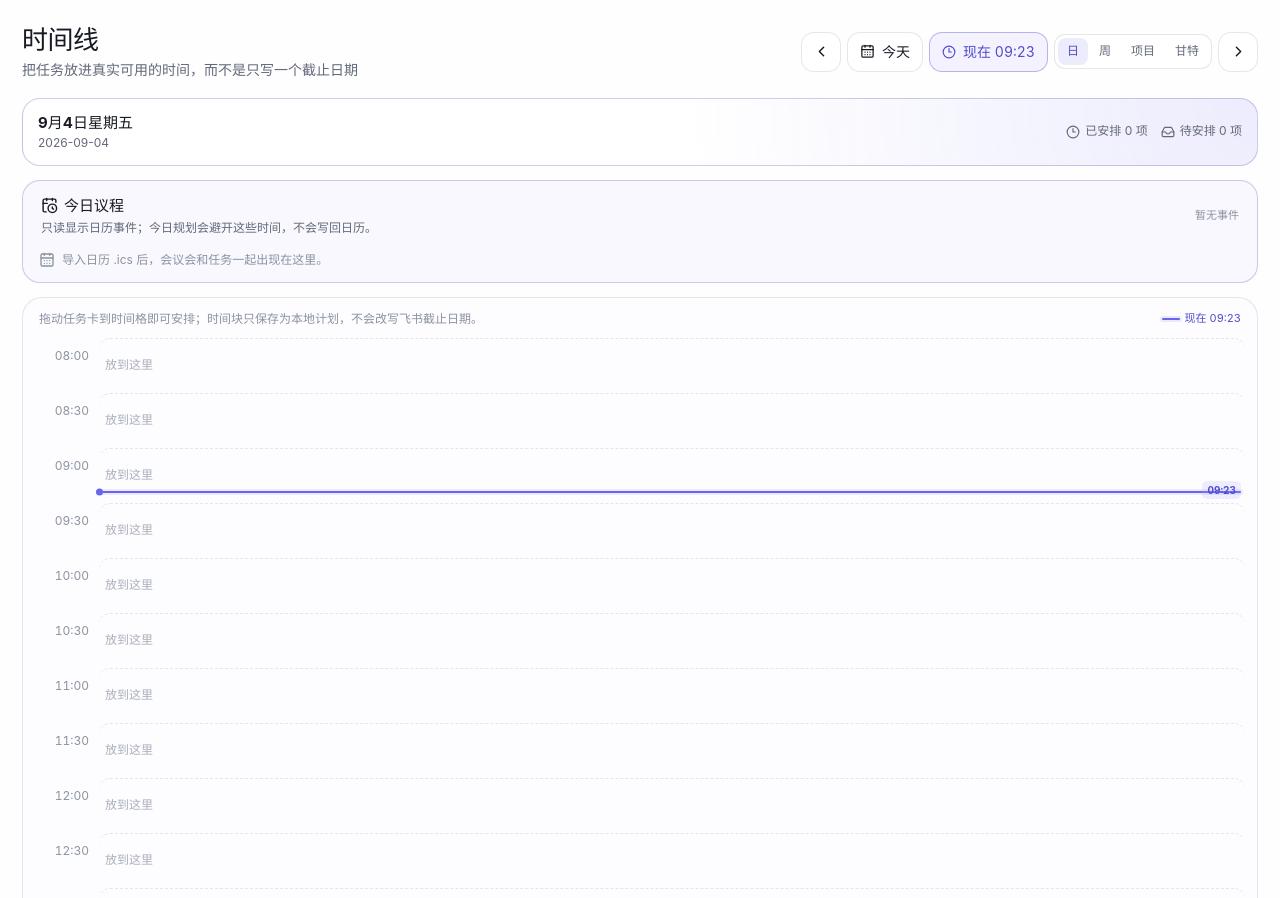
Test case: TimelinePage › lets the Gantt route switch horizon and remembers it locally
Click the button "甘特" at (1187, 52), box [1166,38,1208,65]
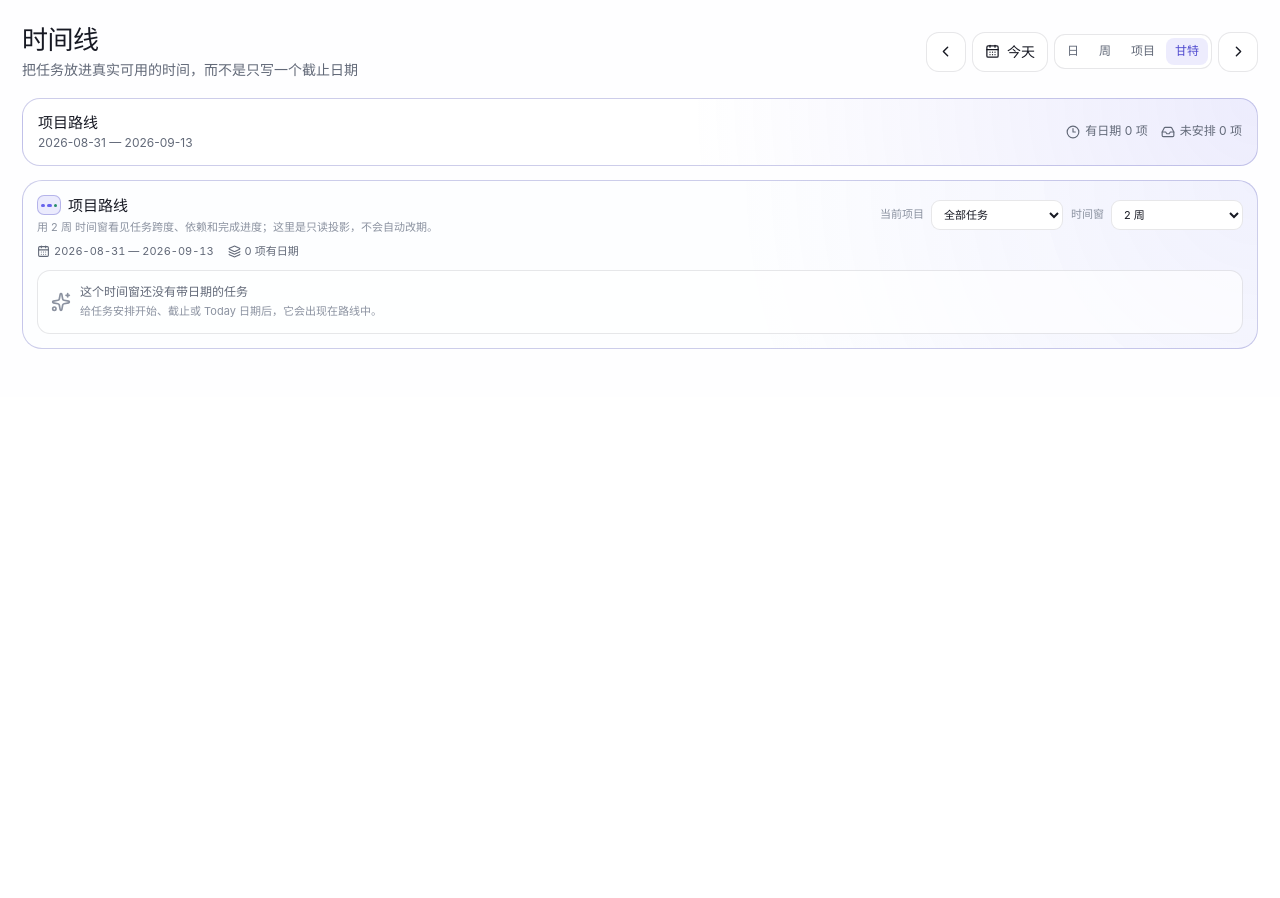
Check: the dropdown named "甘特时间窗" shows "2 周"
Select "12 周" in the dropdown named "甘特时间窗" at (1177, 215), box [1111,200,1243,230]
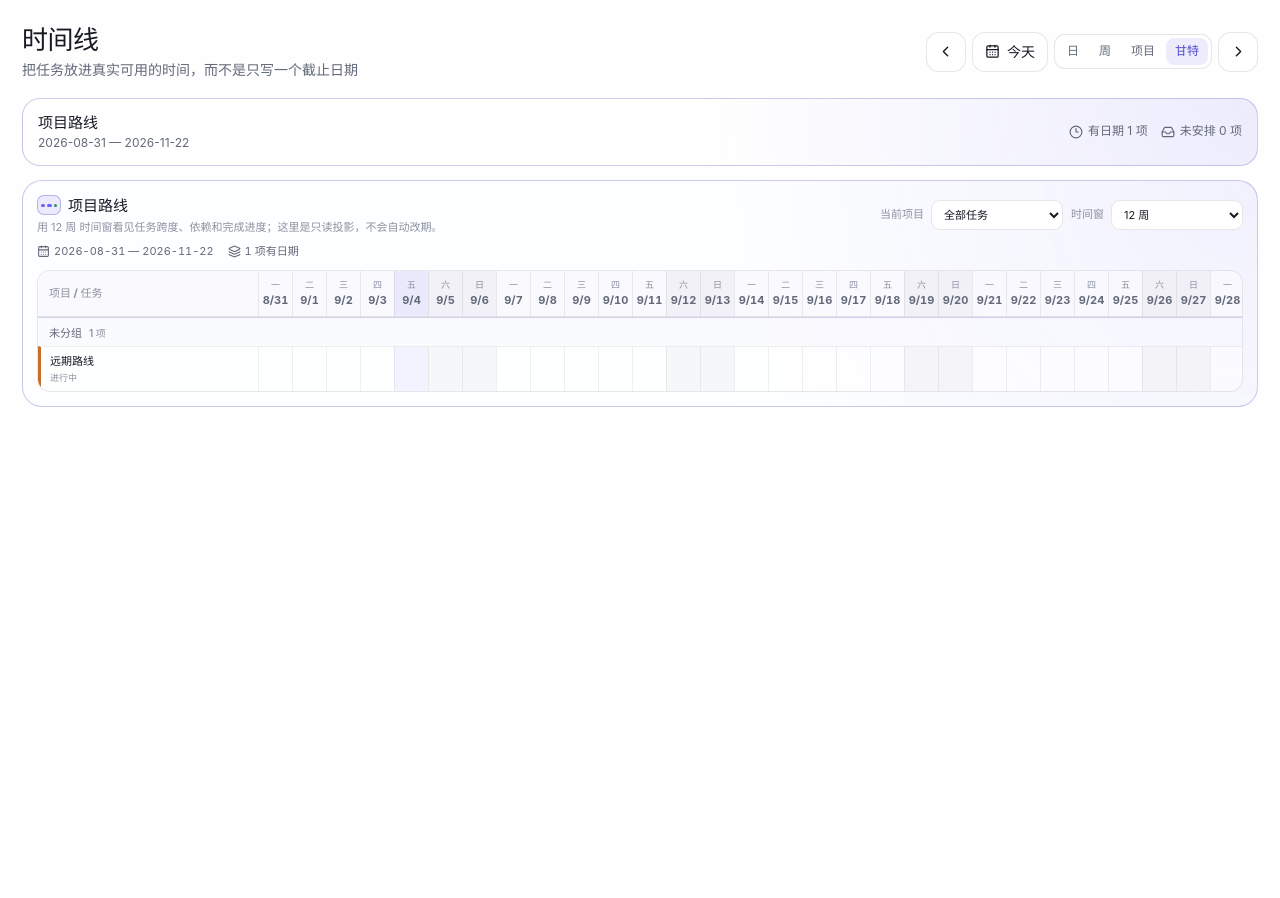
Check: the text "用 12 周 时间窗看见任务跨度、依赖和完成进度；这里是只读投影，不会自动改期。" is shown, box [37,220,442,235]
